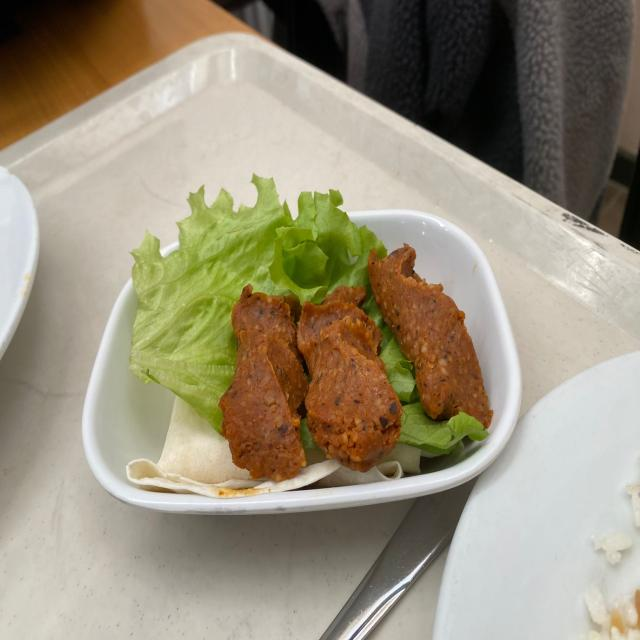yan_yemek: (124, 173, 496, 492)
